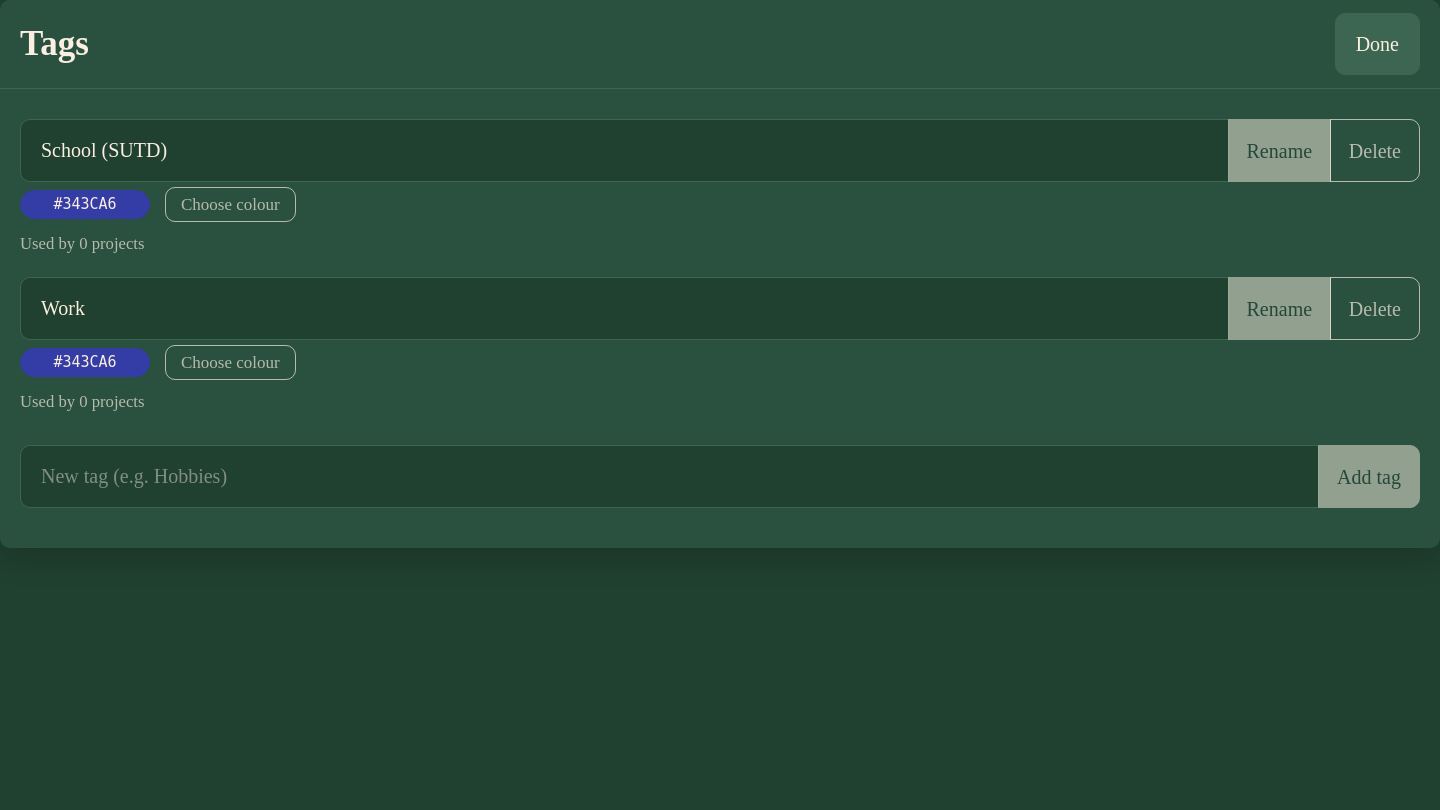
Test: TagManager › keeps the typed name and shows the error when a rename fails
Replace the text in the field named "Name of Work" with "school (sutd)". click: (624, 309)
box: [20,277,1229,340]
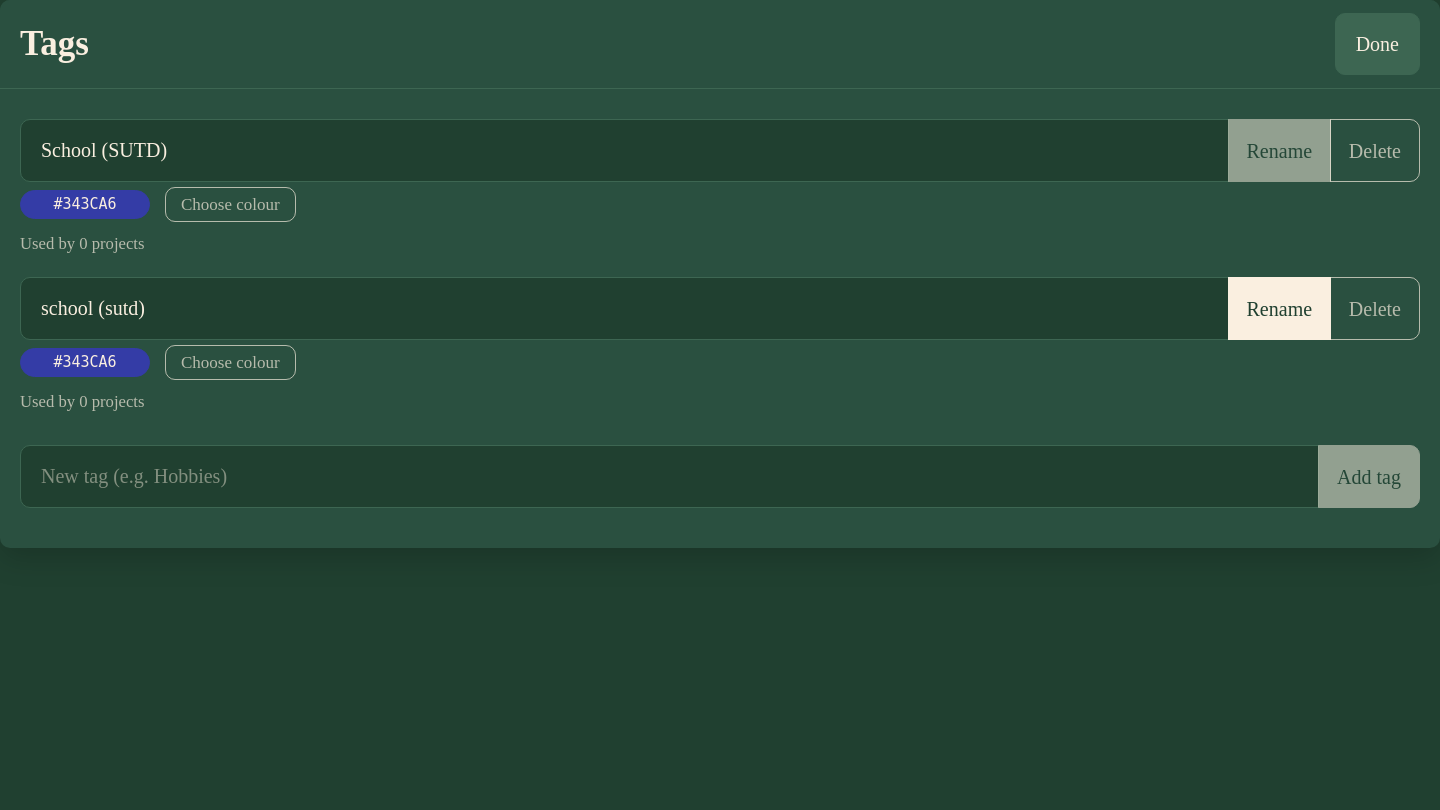
Submit the 2nd form "Rename Delete", box [20,277,1420,340]
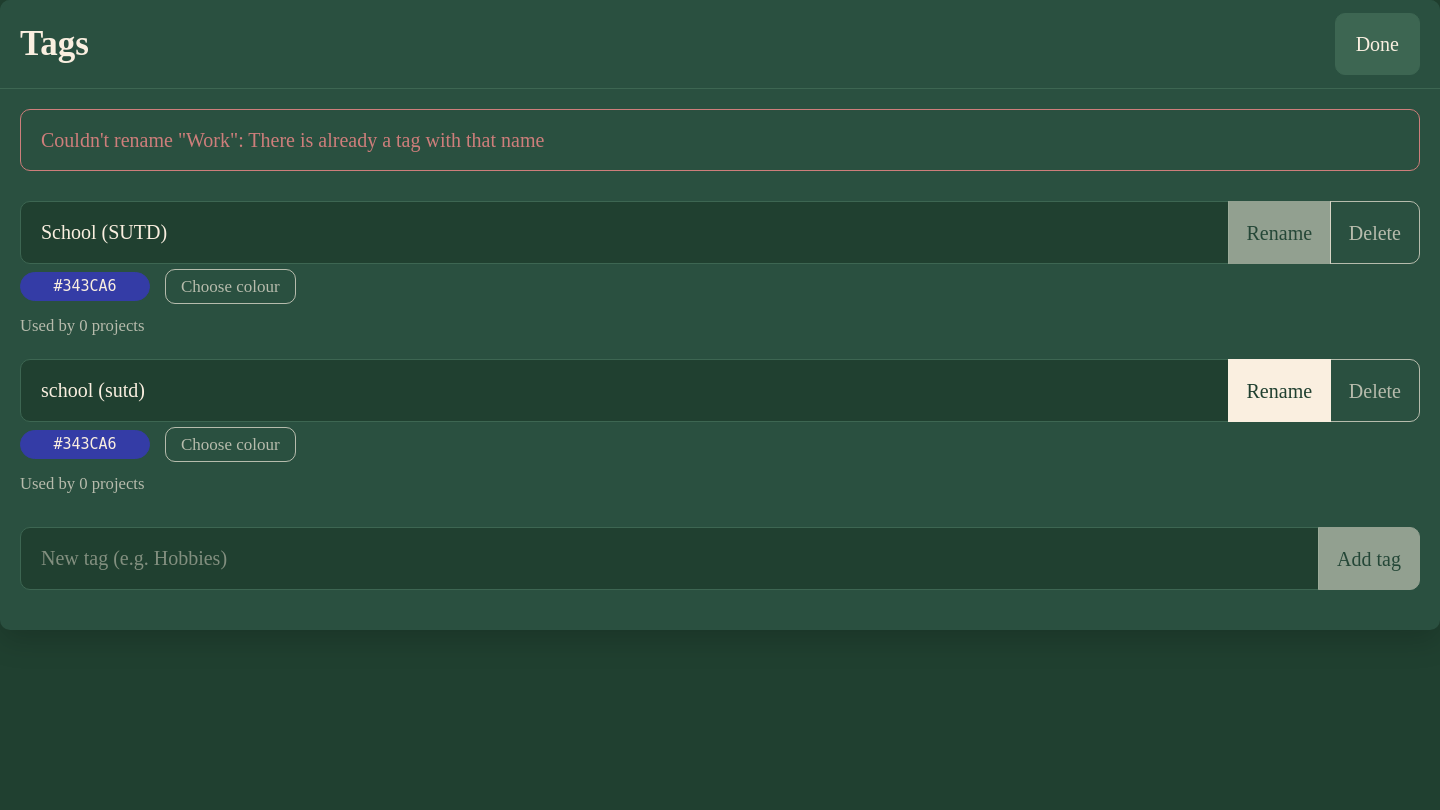
Expected: the message "Couldn't rename \"Work\": There is already a tag with that name" reads "Couldn't rename \"Work\": There is already a tag with that name", [41,129,544,151]
